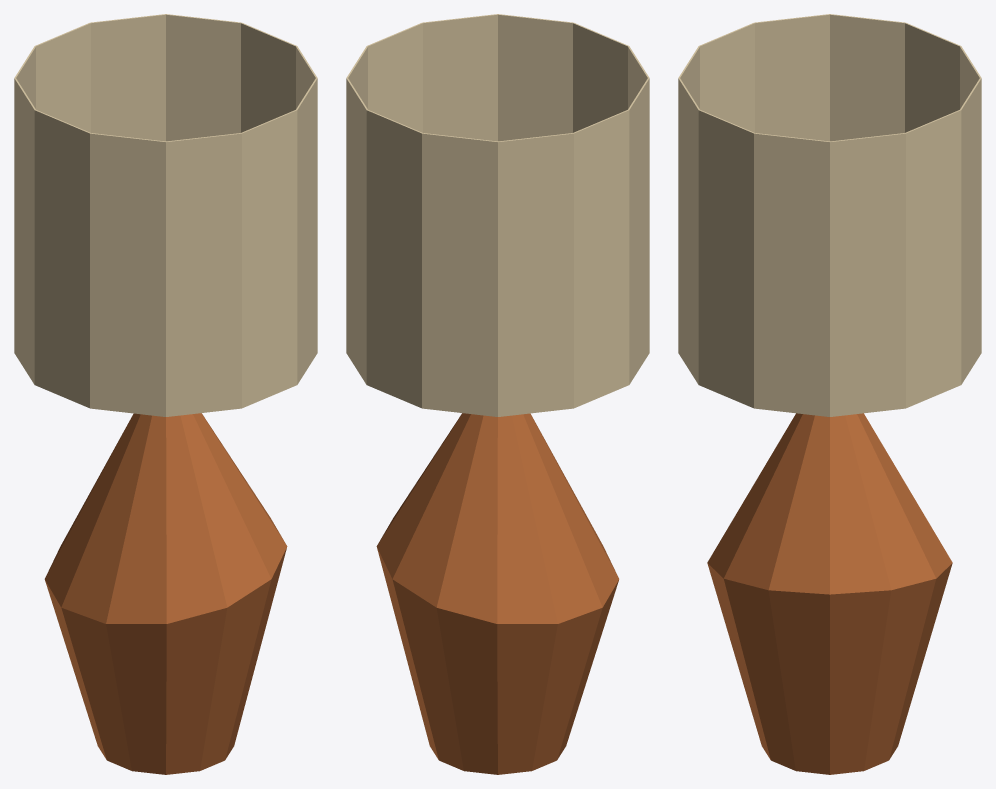
The model's file is Lampe_de_chevet_gamejam.fbx.
The picture shows the model from 3 angles, left to right: view 1: azimuth 30°, elevation 25°; view 2: azimuth 150°, elevation 25°; view 3: azimuth 270°, elevation 25°; orthographic projection.
Parts seen in each view (by area): view 1: Lamp.001; view 2: Lamp.001; view 3: Lamp.001.
Part boxes in pixels (x1,y1,x2,y2): Lamp.001: [14, 14, 317, 774]; Lamp.001: [346, 14, 649, 774]; Lamp.001: [678, 14, 981, 774].
Bounding box in the file's own units: 17.24 × 41.88 × 17.24.
